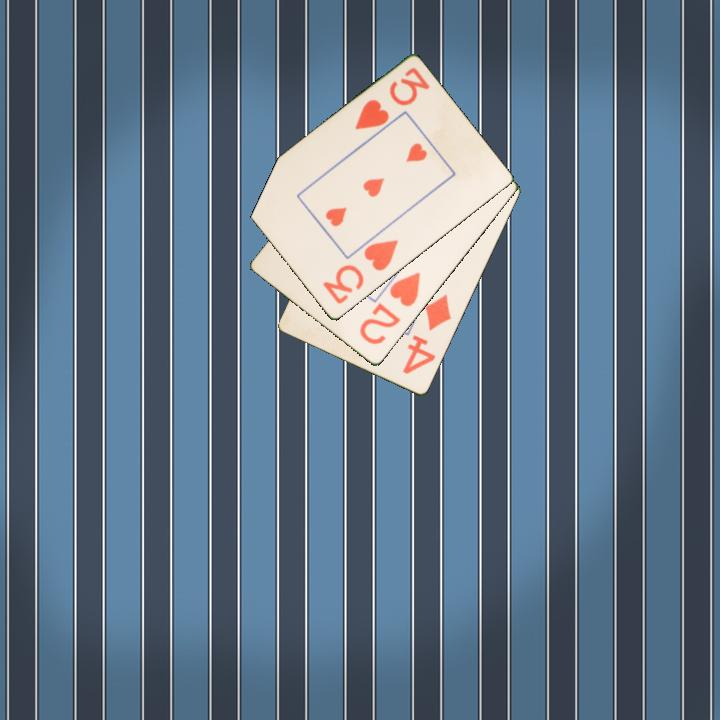2h: (356, 269, 424, 348)
3h: (319, 236, 401, 307), (351, 64, 433, 133)
4d: (399, 291, 455, 377)
